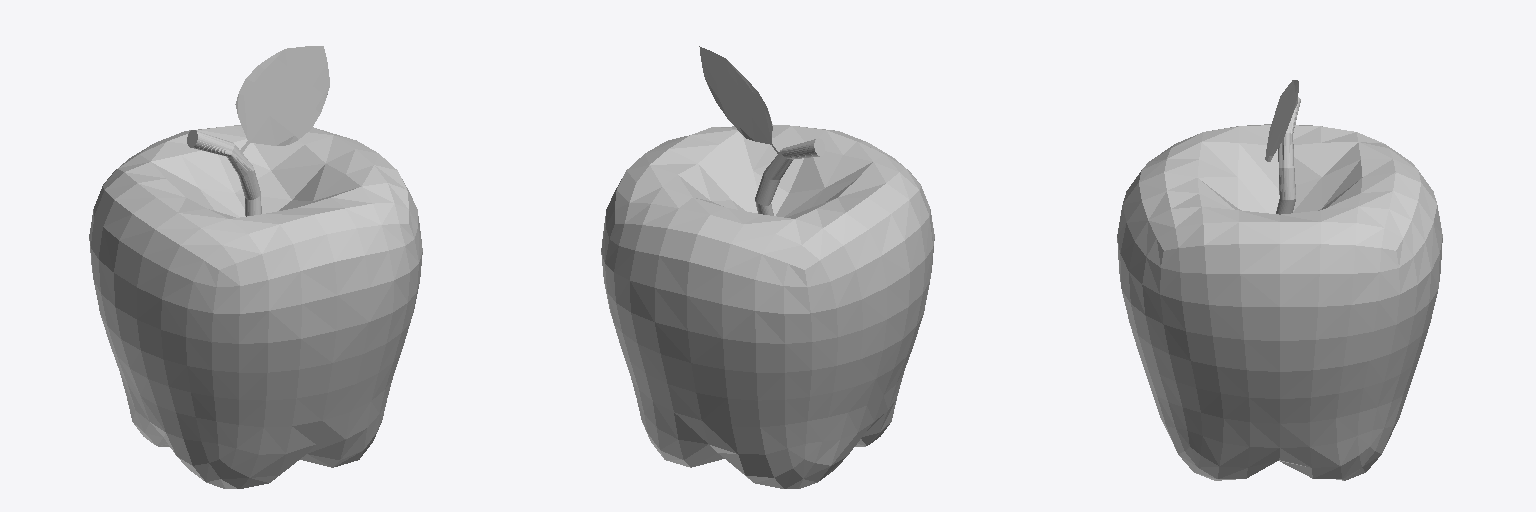
Rendered from aplle2.obj.
3 views of the same model, side by side, from view 1: azimuth 30°, elevation 25°; view 2: azimuth 150°, elevation 25°; view 3: azimuth 270°, elevation 25° (orthographic).
Parts seen in each view (by area): view 1: Cube, Plane, Cylinder; view 2: Cube, Plane, Cylinder; view 3: Cube, Cylinder, Plane.
Part boxes in pixels (bbox=[...]): Cube: bbox=[89, 125, 422, 488]; Plane: bbox=[235, 46, 329, 153]; Cylinder: bbox=[187, 130, 261, 216]; Cube: bbox=[601, 124, 934, 488]; Plane: bbox=[699, 46, 778, 153]; Cylinder: bbox=[755, 138, 824, 215]; Cube: bbox=[1117, 124, 1442, 480]; Cylinder: bbox=[1276, 97, 1300, 214]; Plane: bbox=[1265, 80, 1298, 161].
Bounding box in the file's own units: 1.95 × 2.55 × 1.94.